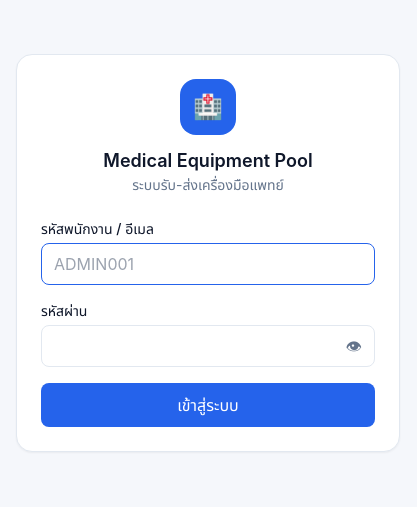
Scenario: LoginPage lockout message › explains the lockout in Thai, with the wait and the way out
Type "ADMINISTRATOR001" into the field labelled "รหัสพนักงาน / อีเมล" at (208,264), box [41,243,375,285]
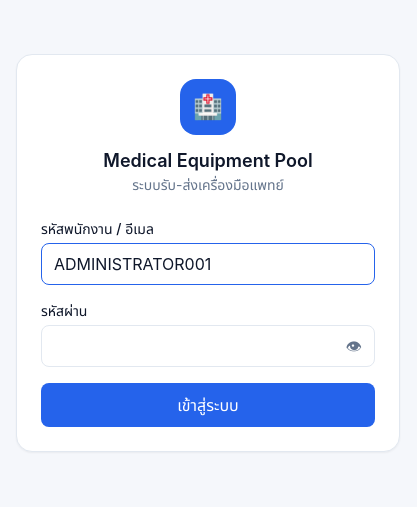
Type "Password@123" into the password field labelled "รหัสผ่าน" at (188,346), box [42,326,334,366]
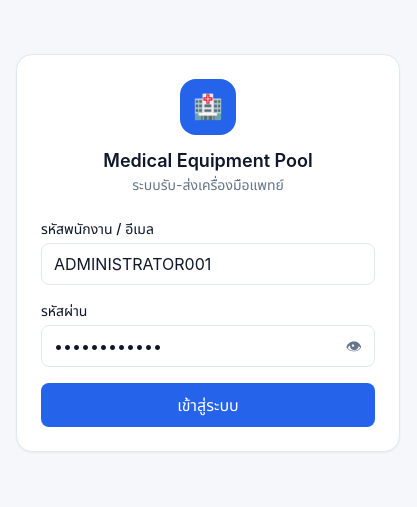
Click the button "เข้าสู่ระบบ" at (208,405), box [41,383,375,427]
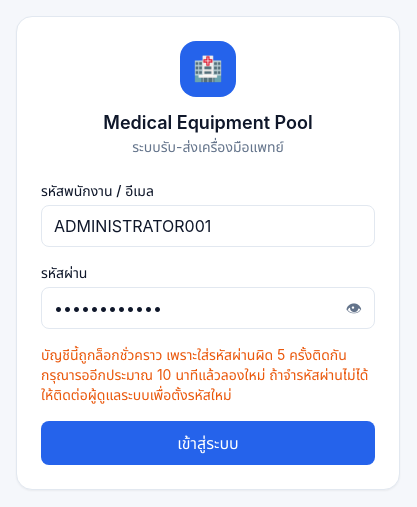
Now the text "ถูกล็อกชั่วคราว" shows "5 ครั้ง", box [41,346,368,403]
Now the text "ถูกล็อกชั่วคราว" shows "10 นาที", box [41,346,368,403]
Now the text "ถูกล็อกชั่วคราว" shows "ผู้ดูแลระบบ", box [41,346,368,403]
